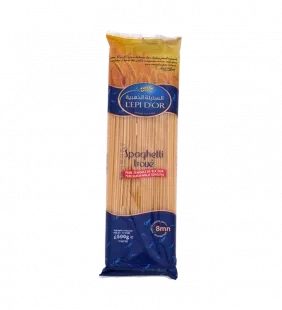L'EPI D'OR: (92, 20, 188, 291)
